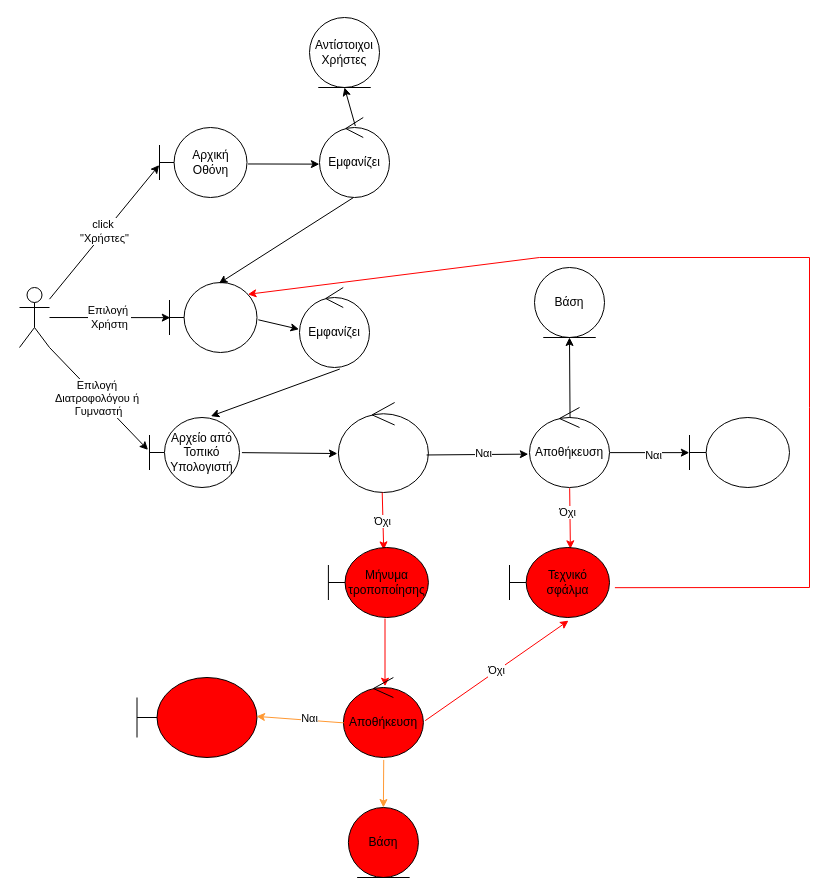
Some shapes in this 835 by 895 pixel diagram are drawn without their labels. The shapes that lost their labels are listed below. From the top down, each one's centre as x and y in pixels, then its label:
At pixel 34 317: "Doctor".
At pixel 212 317: "Προφίλ Χρήστη κ.α.".
At pixel 382 447: "Έλεγχος πρώτης υποβολής".
At pixel 739 452: "Μήνυμα Επιτυχημένης Υποβολής".
At pixel 196 717: "Μήνυμα Επιτυχημένης Τροποποίησης".
